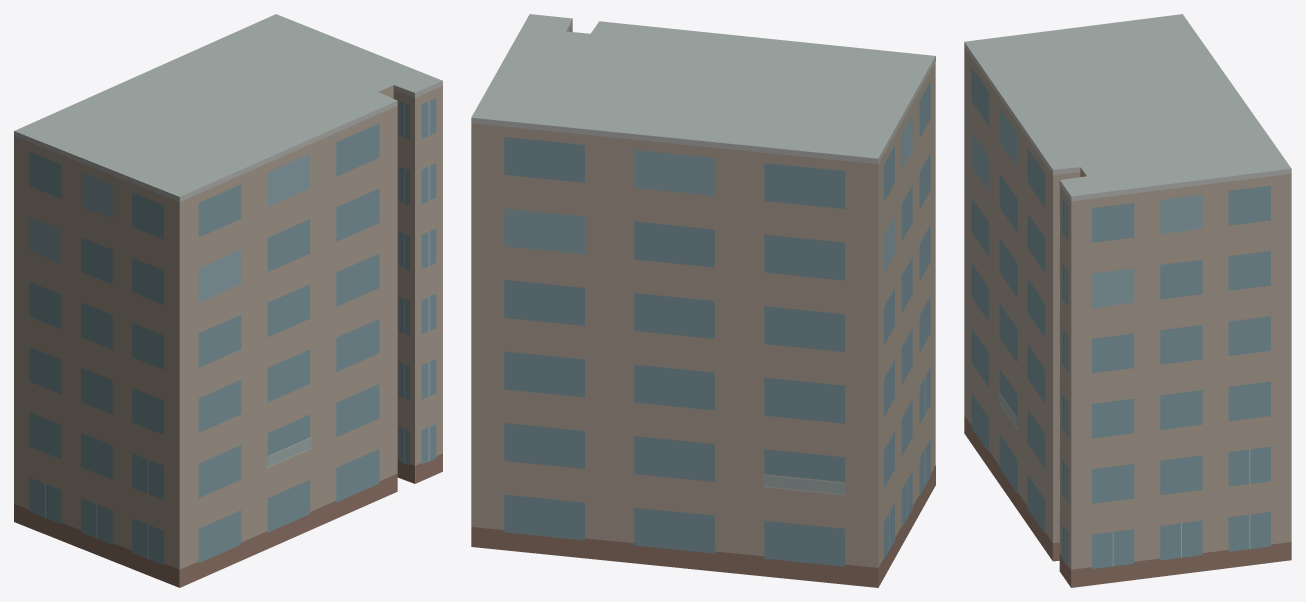
File: survey-upis-32709096.glb
3 views of the same model, side by side, from view 1: azimuth 30°, elevation 25°; view 2: azimuth 150°, elevation 25°; view 3: azimuth 270°, elevation 25° (orthographic). The views are drawn at different scales.
Parts seen in each view (by area): view 1: survey-upis-32709096.tmp; view 2: survey-upis-32709096.tmp; view 3: survey-upis-32709096.tmp.
Boxes of the visible parts, box(x1,y1,x2,y2) form: survey-upis-32709096.tmp: box(14, 14, 442, 587); survey-upis-32709096.tmp: box(471, 14, 935, 587); survey-upis-32709096.tmp: box(964, 14, 1291, 587).
Bounding box in the file's own units: 18.84 × 18.85 × 14.29.
